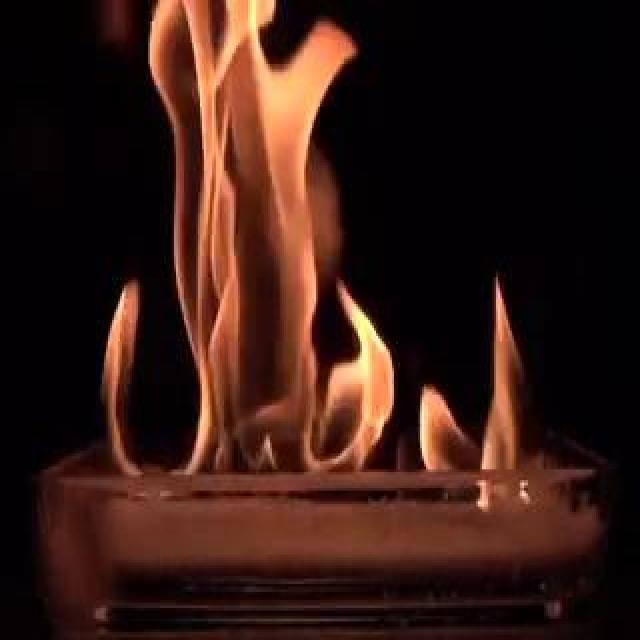Fire: (241, 3, 495, 480)
